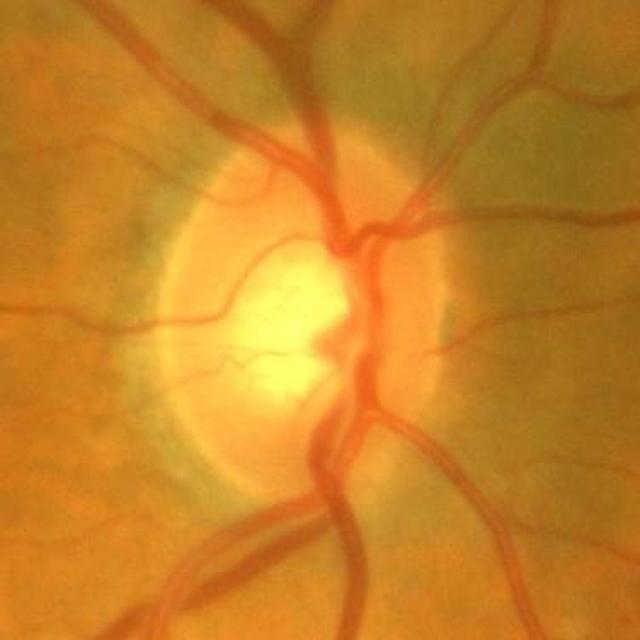OC: (224, 244, 367, 404)
OD: (151, 116, 448, 502)
